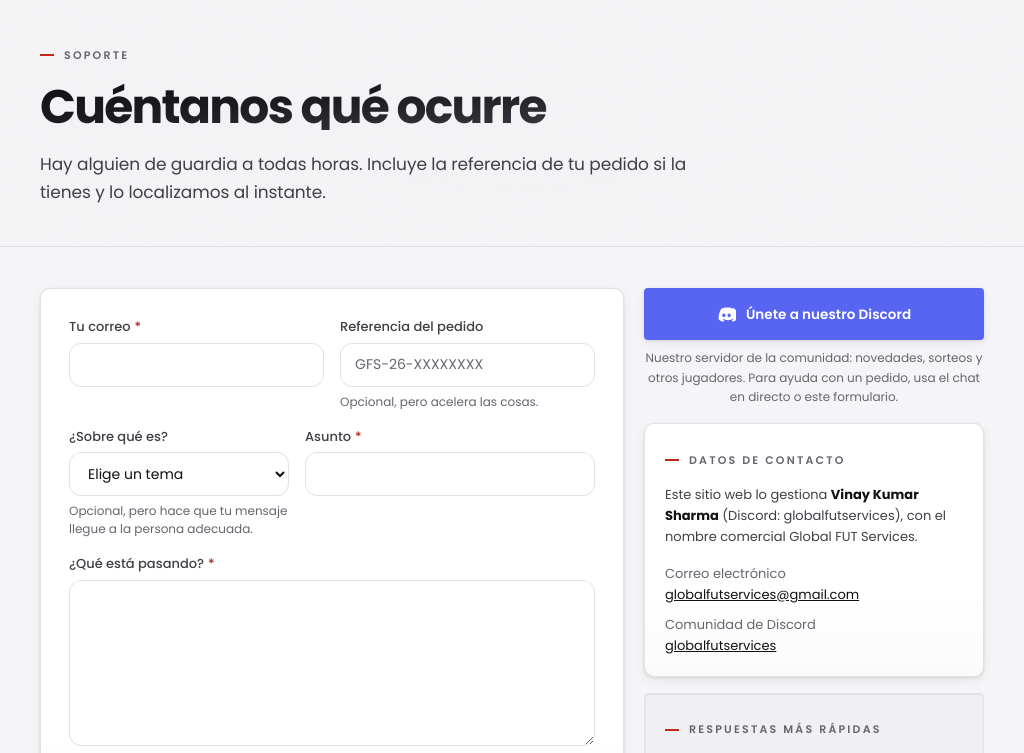
Scenario: sending › on success: the reference, in the visitor's language, and a fresh form
Step 1. Type "ada@example.test" into the field labelled "Tu correo*" → (196, 365), box [69,343,324,387]
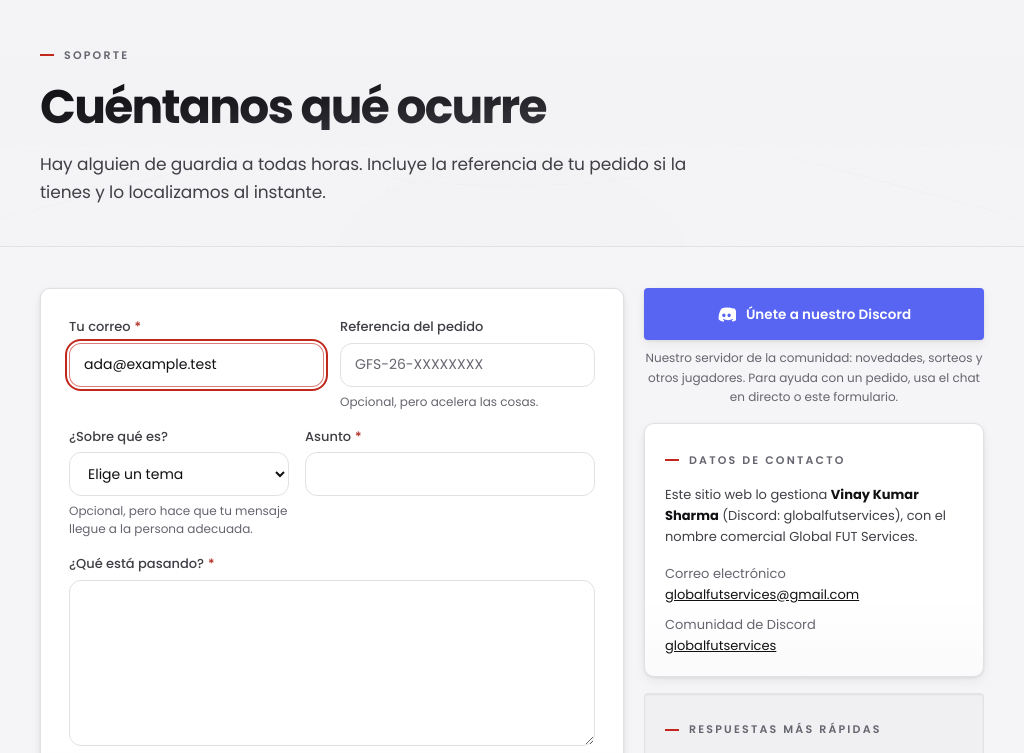
Step 2. Type "Monedas" into the field labelled "Asunto*" → (450, 474), box [305,452,595,496]
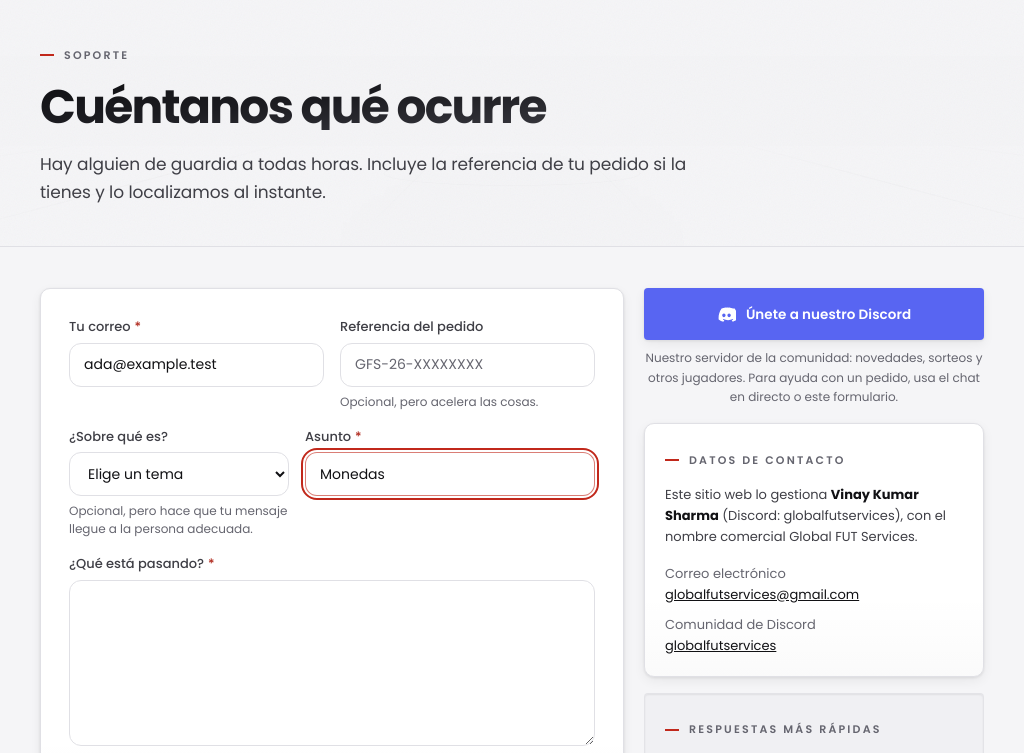
Step 3. Type "Nada todavía." into the text box labelled "¿Qué está pasando?*" → (332, 663), box [69,580,595,746]
(page scrolled)
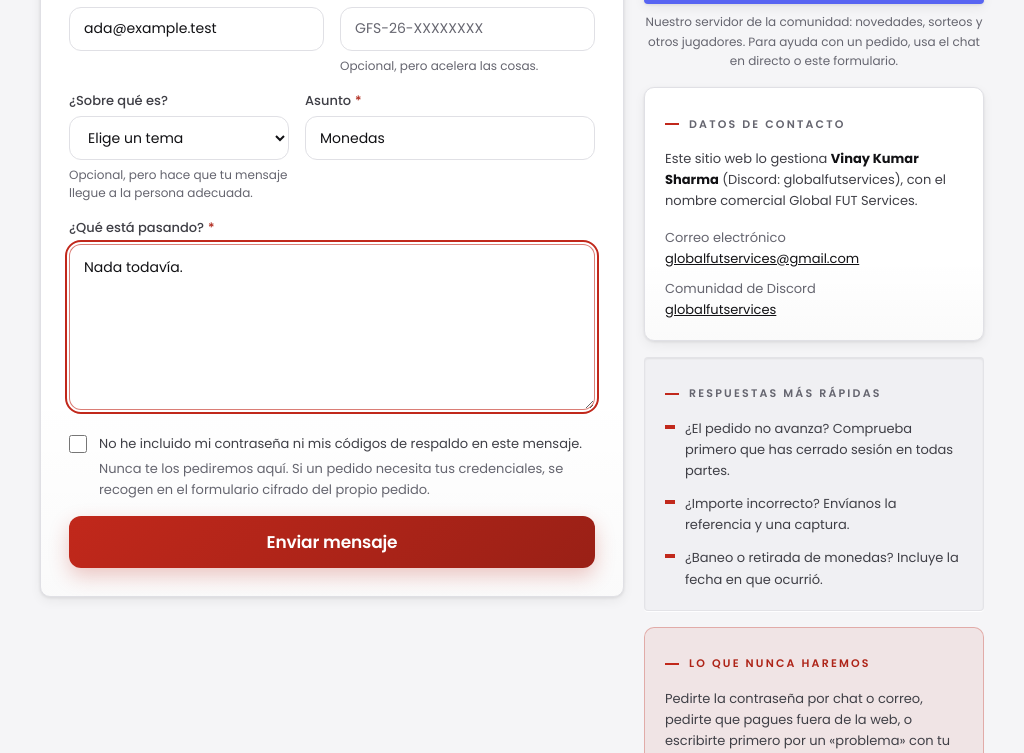
Step 4. Click the checkbox → (78, 444), box [69,435,87,453]
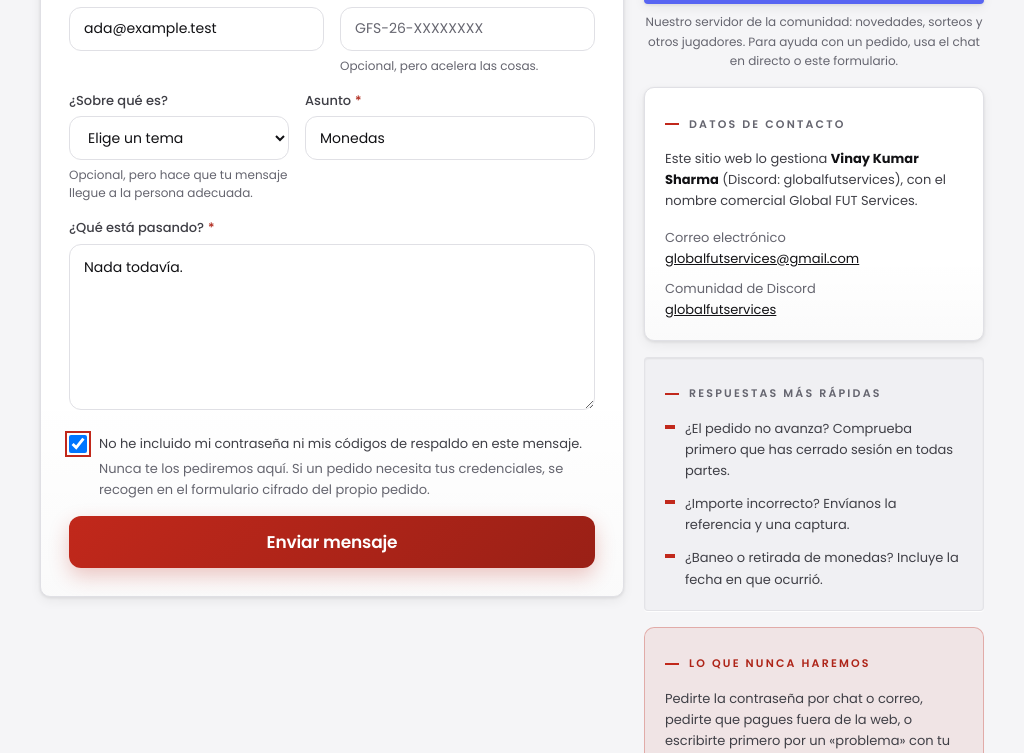
Step 5. Click the button "Enviar mensaje" → (332, 542), box [69,516,595,568]
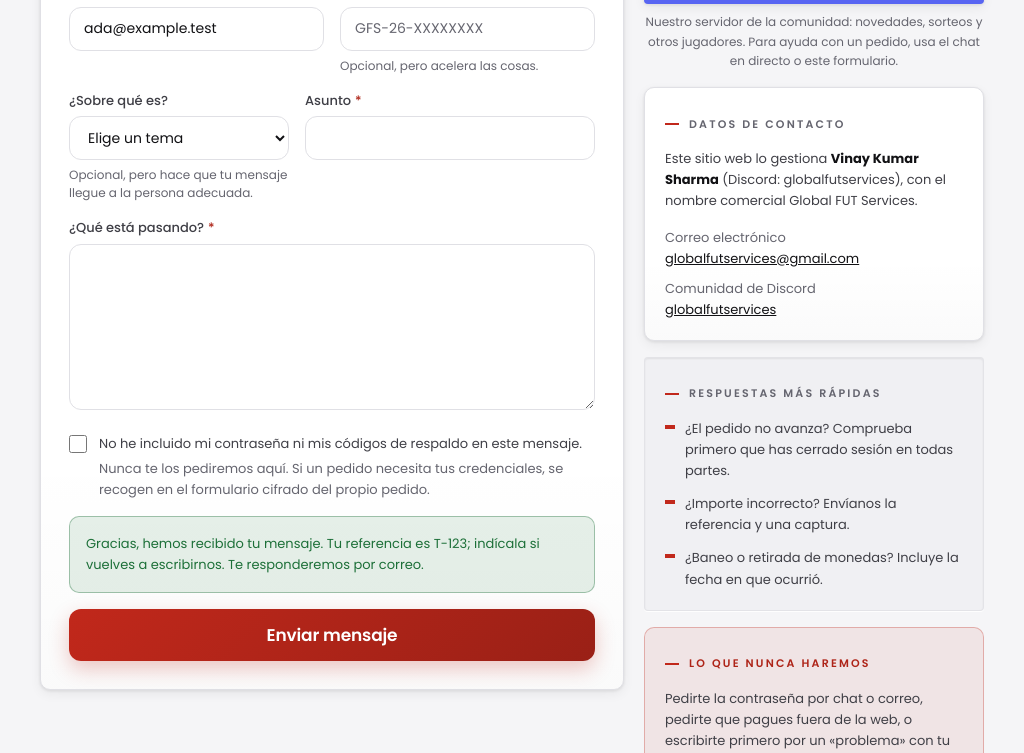
Now the checkbox is not checked, box [69,435,87,453]
Now the text "Tu referencia es T-123" is shown, box [86,534,540,574]
Now the field labelled "Asunto*" is empty, box [305,116,595,160]
